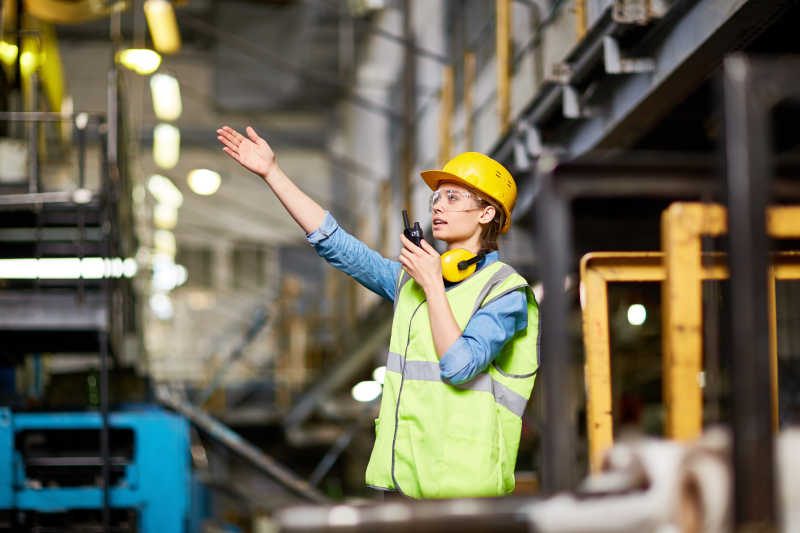safetyhat: (302, 115, 554, 506)
